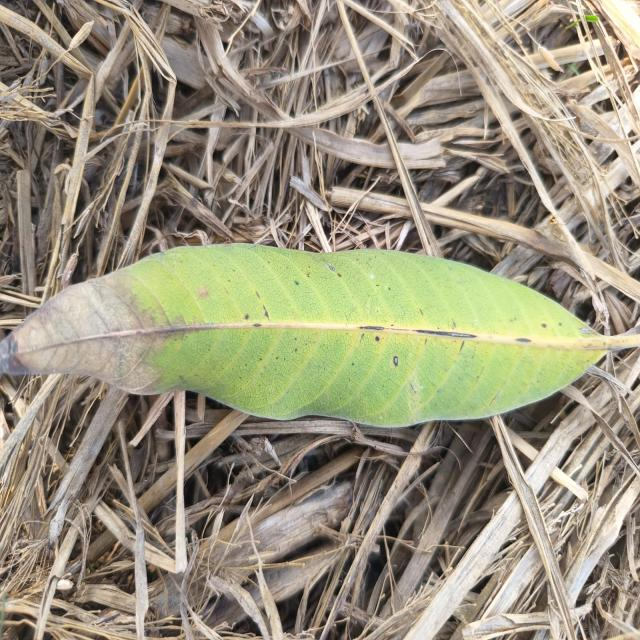Anthracnose: (417, 330, 477, 339), (195, 284, 212, 300), (392, 353, 402, 368), (361, 326, 384, 331), (263, 305, 269, 319), (516, 338, 531, 342), (393, 356, 398, 366), (254, 290, 260, 298), (328, 265, 335, 271), (254, 322, 262, 327), (419, 307, 424, 315), (265, 310, 269, 318), (244, 313, 249, 319), (541, 323, 546, 328), (361, 333, 365, 339), (375, 335, 379, 341), (336, 273, 342, 277), (294, 281, 299, 285), (559, 323, 562, 326), (352, 362, 354, 366), (295, 348, 297, 352)
Bacterial Cancer: (0, 257, 190, 445)
